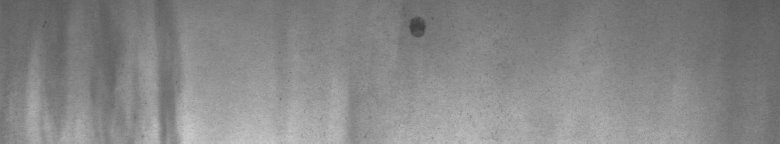fi: (405, 12, 432, 43)
